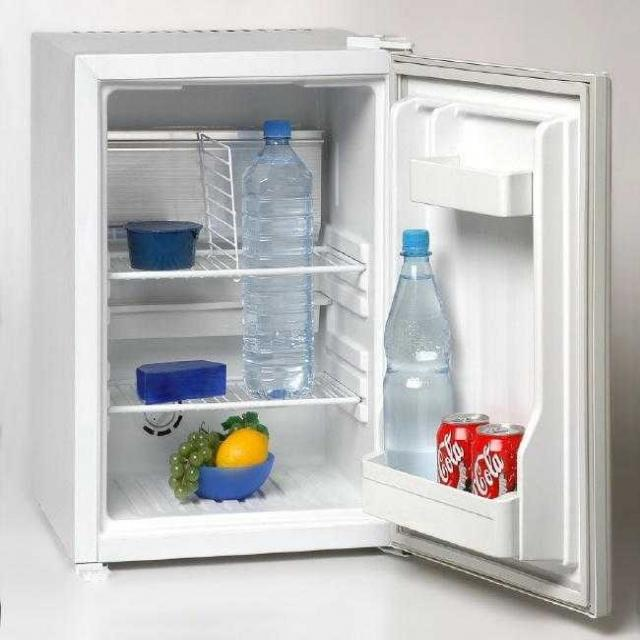refrigerator: (72, 47, 601, 576)
